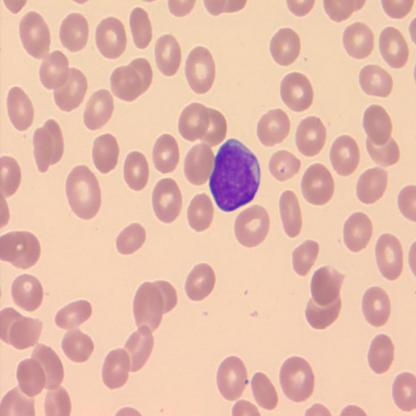Blast: (209, 135, 263, 214)
